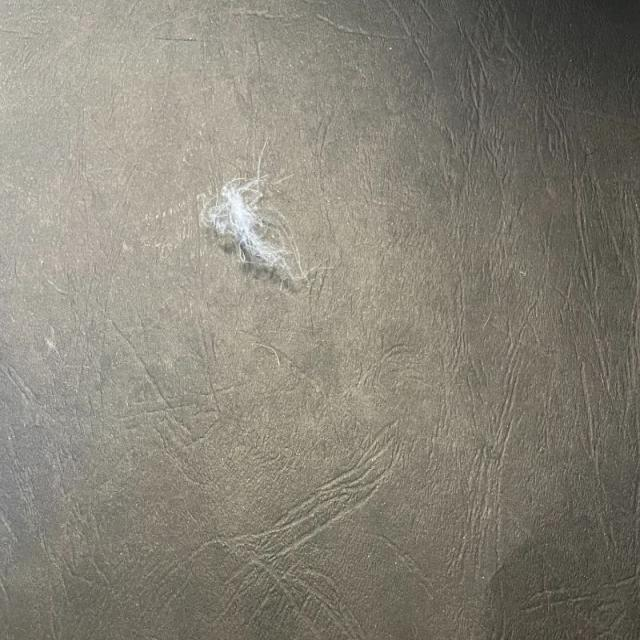feather: (198, 176, 314, 285)
